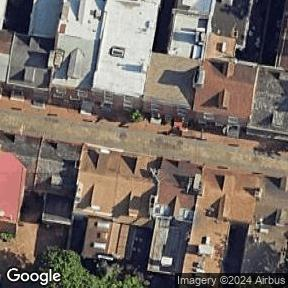vegetation: (46, 242, 144, 288), (128, 110, 144, 125)
